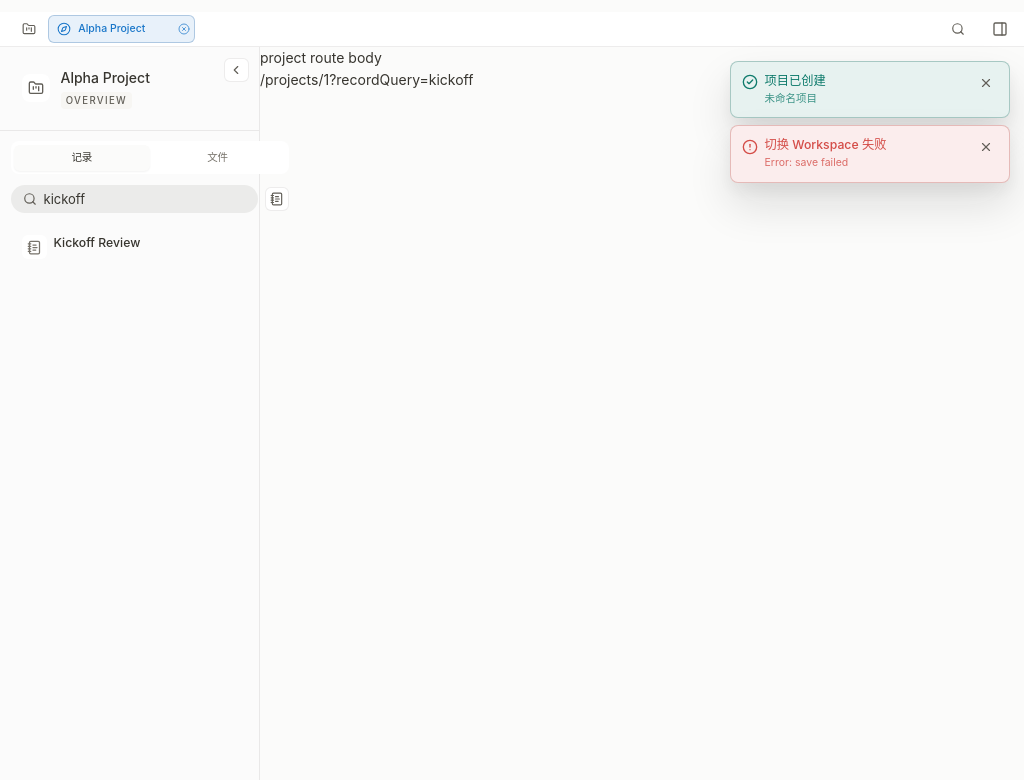
Test: WorkspaceLayout › opens a project record focus page when a sidebar record is double clicked
Double-click the button "Kickoff Review".
double_click(130, 246)  # box [10,223,248,269]
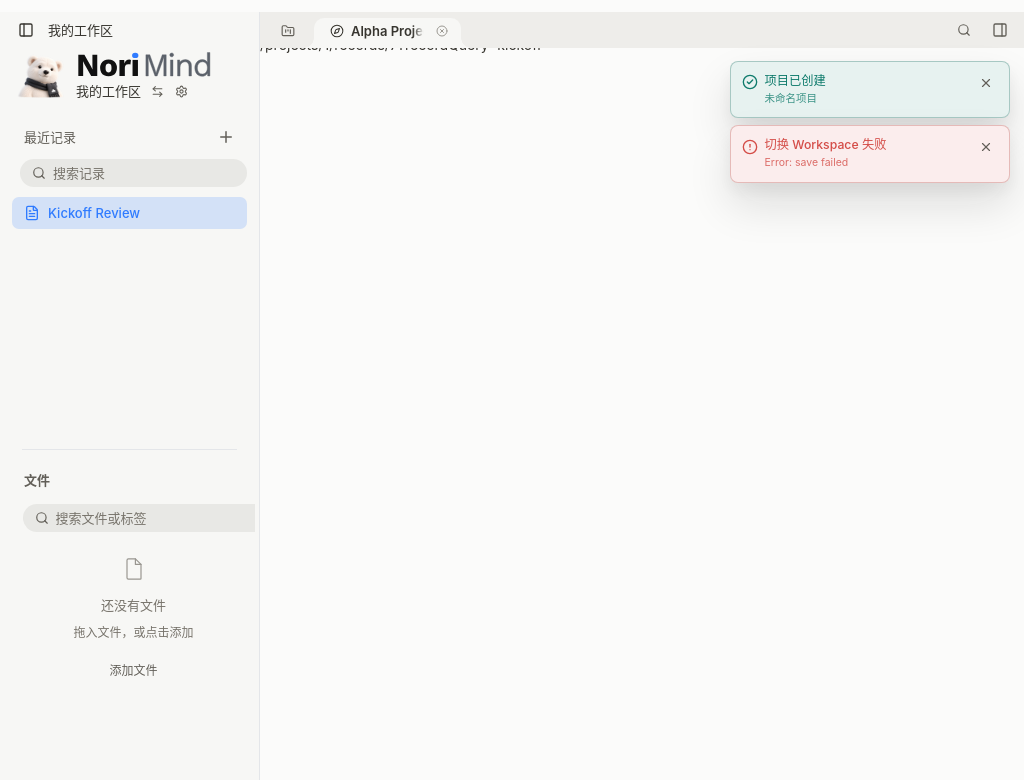
expect the text "record focus route body" is shown: met, box [260,14,420,31]
expect the text with test id "location-display" reads "/projects/1/records/7?recordQuery=kickoff": met, box [260,36,542,53]
